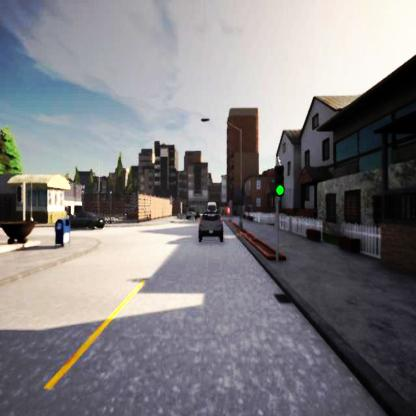vehicle: (196, 213, 224, 239), (69, 212, 105, 230), (203, 201, 218, 219)
